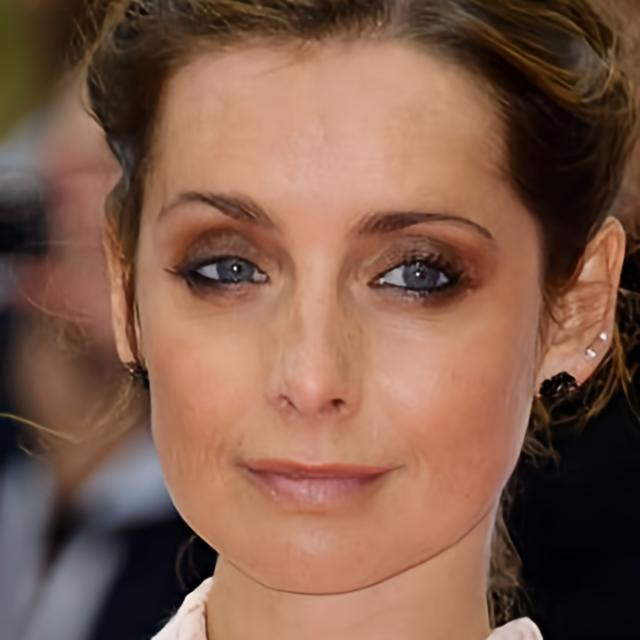content: (138, 32, 542, 596)
